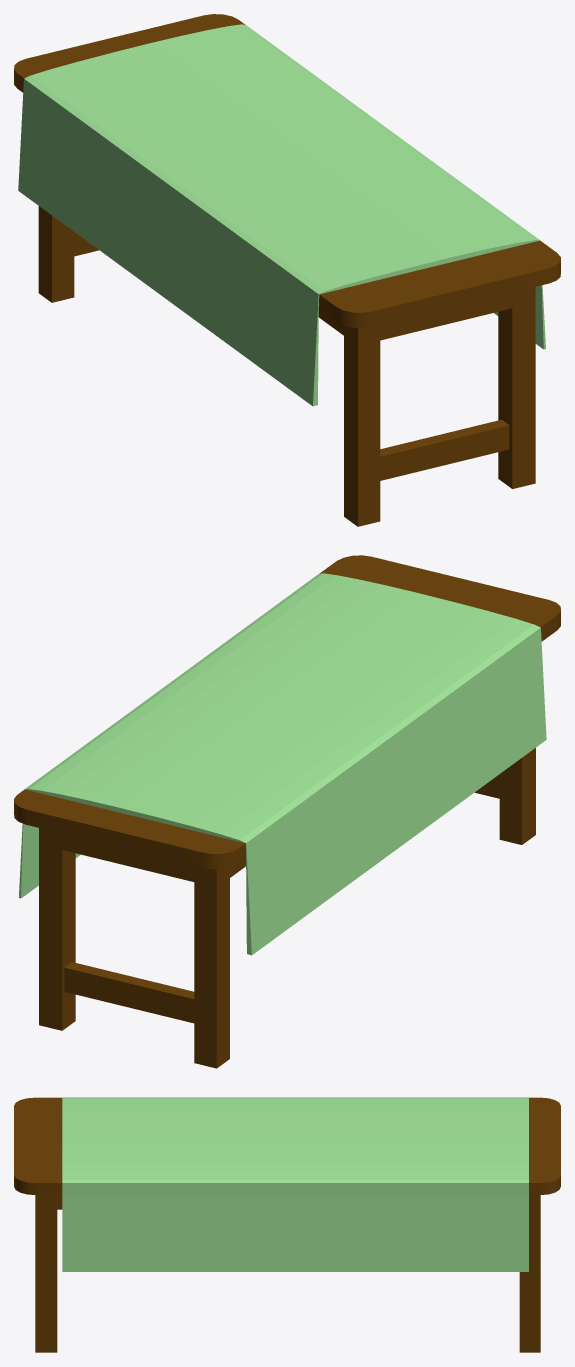
File: Kitchen_table.fbx
3 views of the same model, one above another, from view 1: azimuth 30°, elevation 25°; view 2: azimuth 150°, elevation 25°; view 3: azimuth 270°, elevation 25° (orthographic). The views are drawn at different scales.
Visible parts, largest first — view 1: Cube.002; view 2: Cube.002; view 3: Cube.002.
Part boxes in pixels (x1,y1,x2,y2): Cube.002: (14,14,560,526); Cube.002: (14,555,560,1068); Cube.002: (14,1097,560,1352).
Size of the model in its own units: 191 by 180 by 490.
